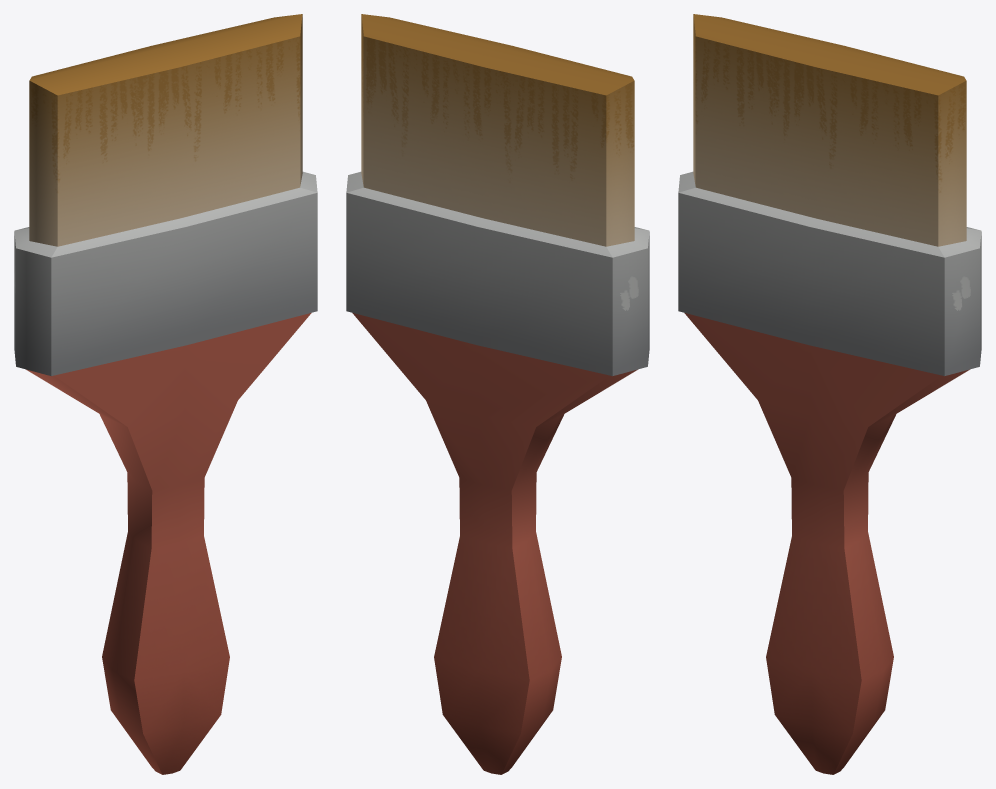
File: brush1.fbx
3 views of the same model, side by side, from view 1: azimuth 30°, elevation 25°; view 2: azimuth 150°, elevation 25°; view 3: azimuth 330°, elevation 25° (orthographic).
Parts seen in each view (by area): view 1: brush1; view 2: brush1; view 3: brush1.
Part boxes in pixels (x1,y1,x2,y2): brush1: [14, 14, 317, 774]; brush1: [346, 14, 649, 774]; brush1: [678, 14, 981, 774].
Bounding box in the file's own units: 3.54 × 8.13 × 0.8431.
